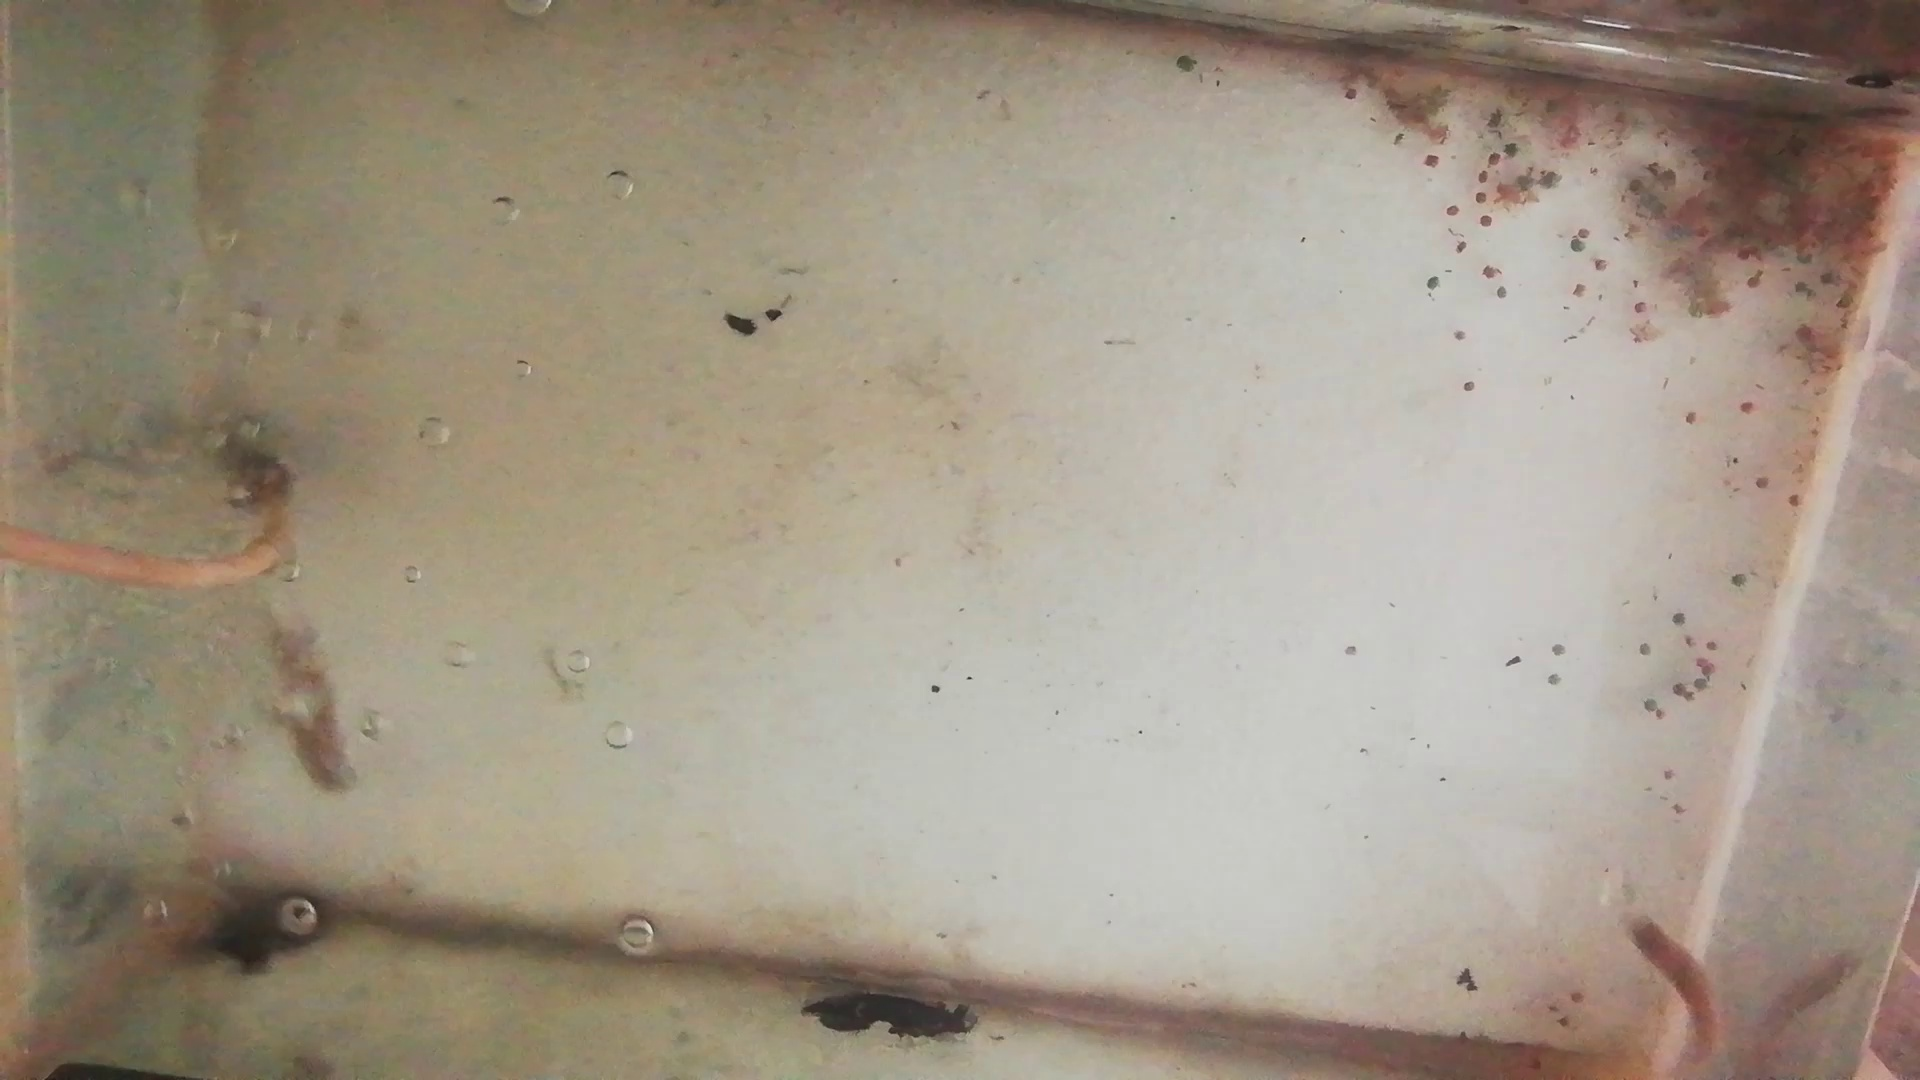fish: (266, 611, 363, 796), (1619, 914, 1720, 1065)
